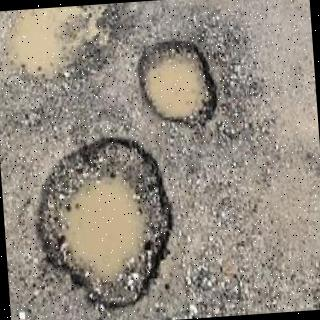pothole: (35, 138, 171, 307), (5, 4, 114, 79), (135, 40, 216, 120)
